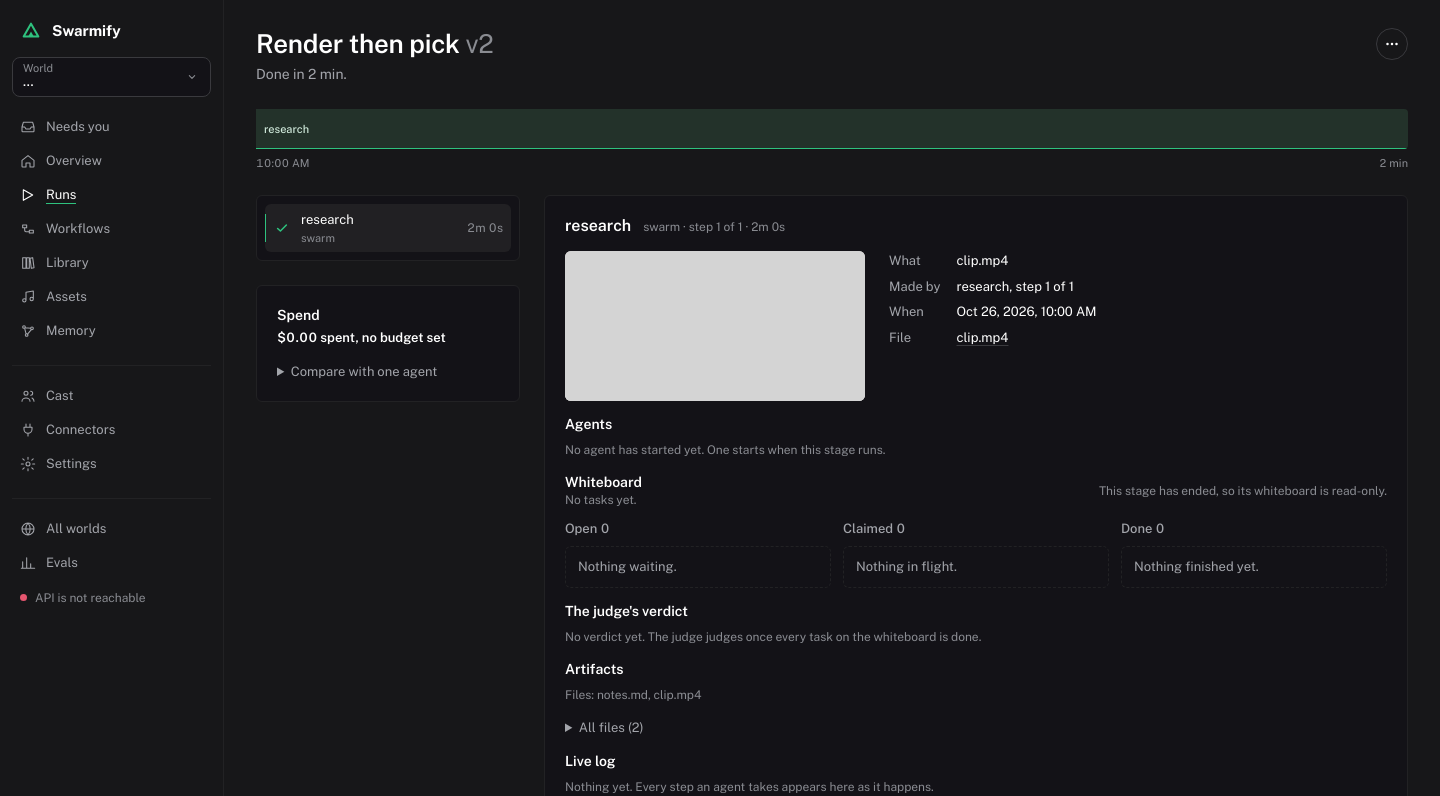
Test: Open on a run's document goes to the reader; a video still opens raw
The width and height of the screenshot is (1440, 796).
What coordinates should you click on to do the following:
click the heading "All files (2)"
I would click on:
 (611, 728)
Its box is [579, 720, 644, 735].
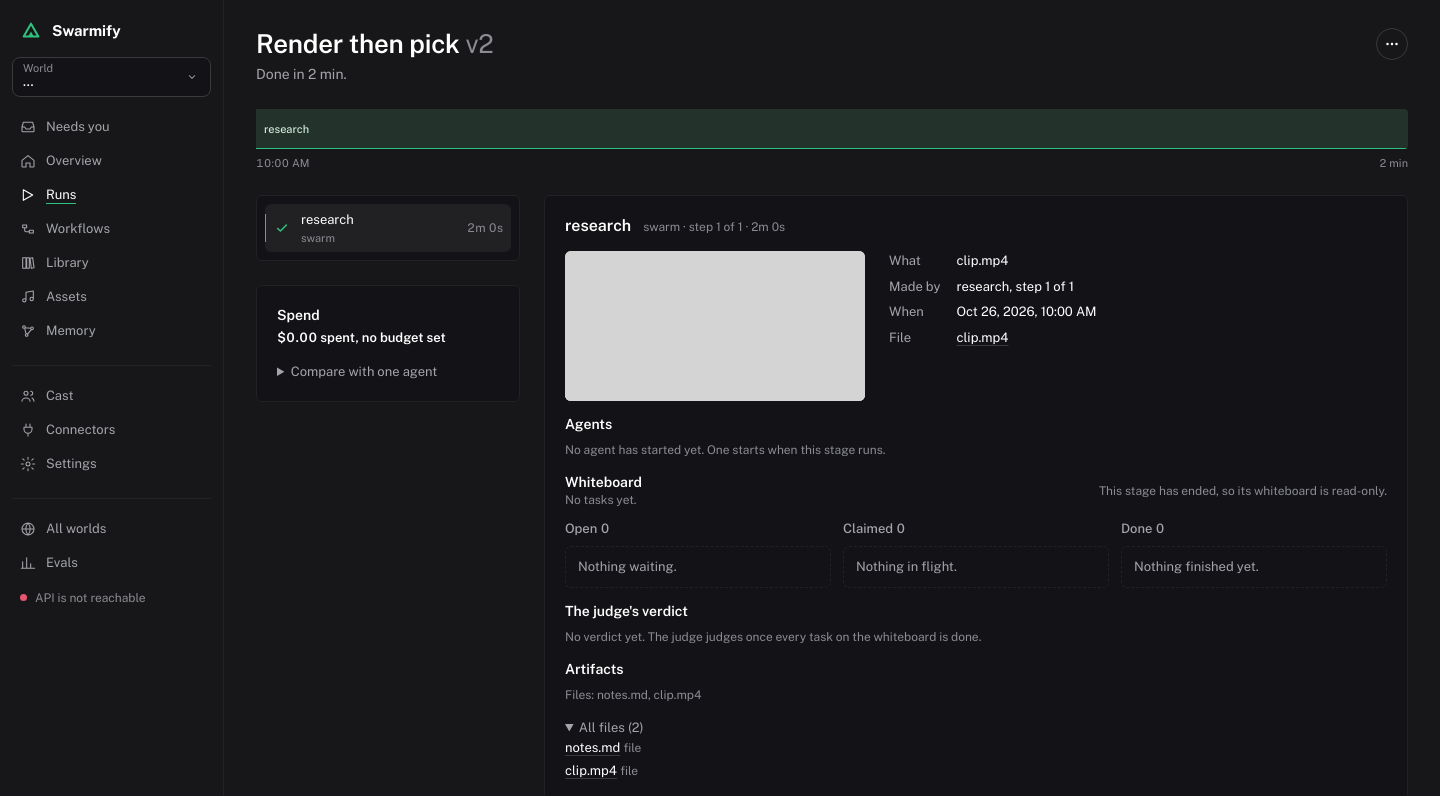
What coordinates should you click on to do the following:
click the link "notes.md"
I would click on:
 (593, 747)
Its box is [565, 740, 620, 755].
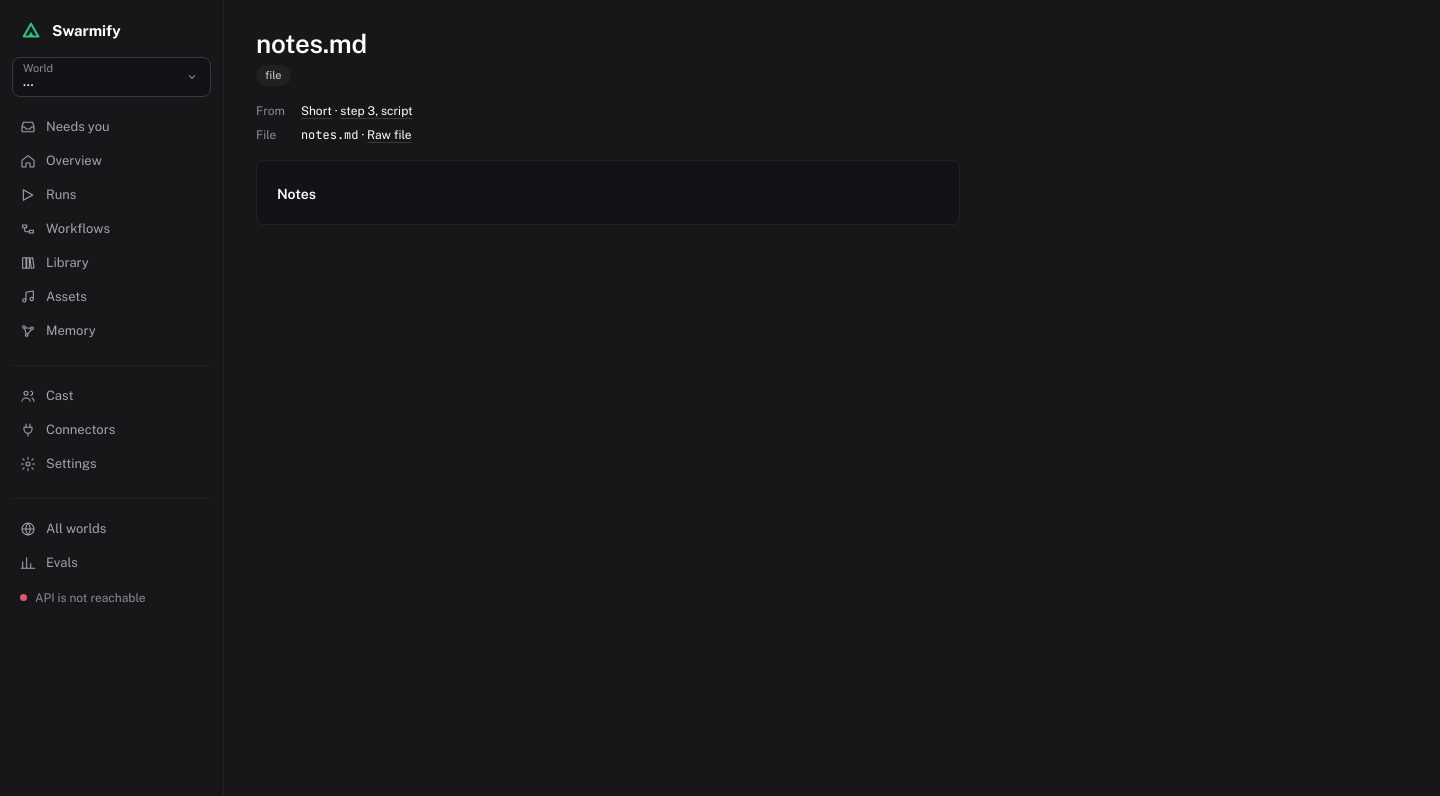
Expected: the heading "notes.md" is shown, [256, 28, 367, 59]
